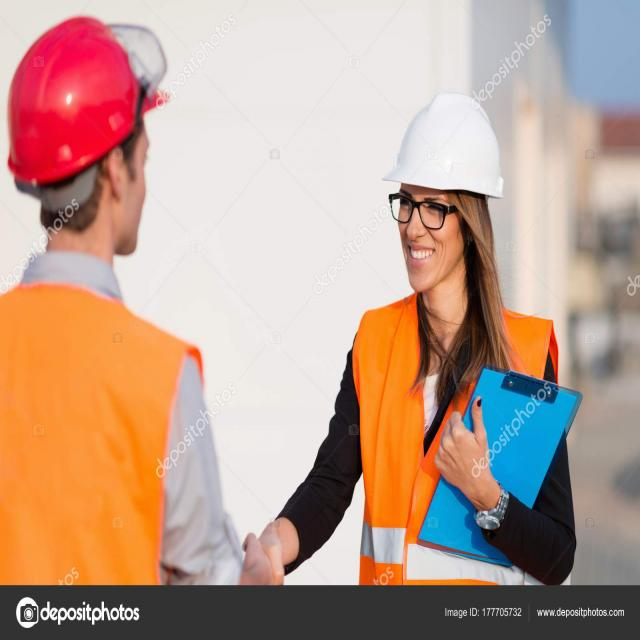Reflective-Jacket: (0, 270, 203, 583), (351, 299, 558, 576)
Safety-Helmet: (0, 13, 148, 192), (381, 86, 508, 202)
